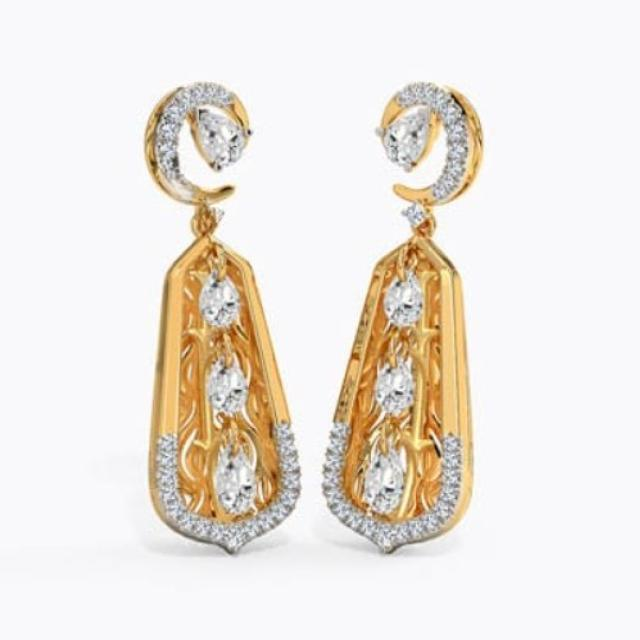missing gem: (189, 206, 221, 232), (175, 180, 197, 196)
